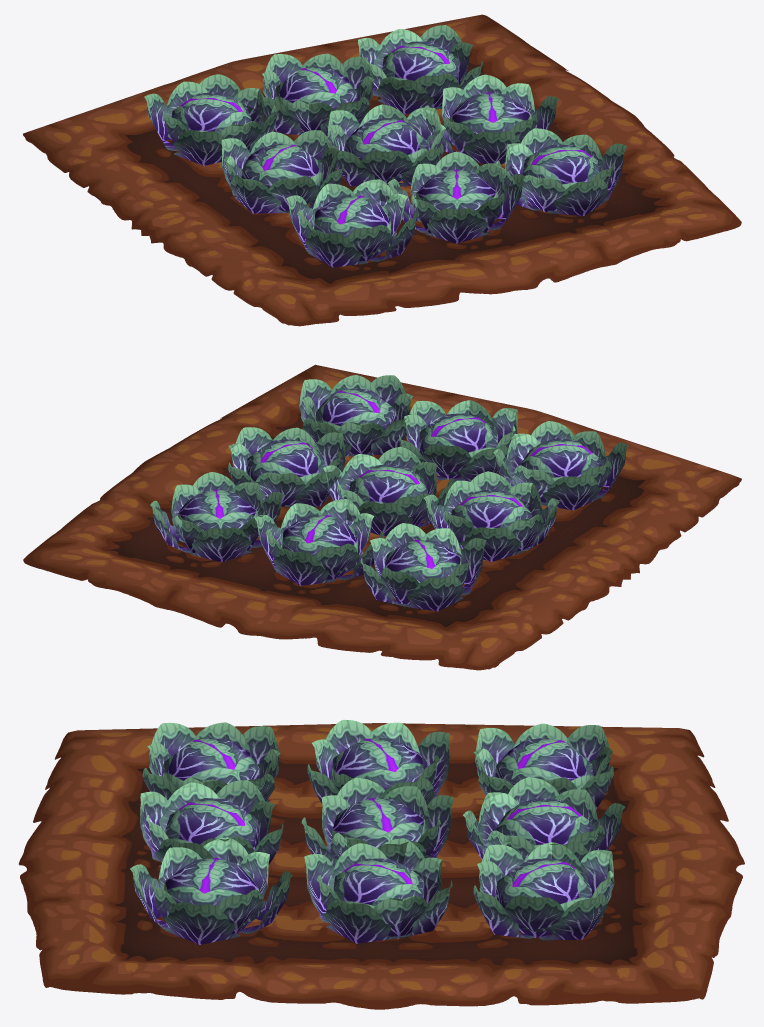
File: Cabbage_Field_Violet_Lv3.FBX
The picture shows the model from 3 angles, top to bottom: view 1: azimuth 30°, elevation 25°; view 2: azimuth 150°, elevation 25°; view 3: azimuth 270°, elevation 25°; orthographic projection. The views are drawn at different scales.
Parts seen in each view (by area): view 1: Cabbage_Field_Violet_Lv3; view 2: Cabbage_Field_Violet_Lv3; view 3: Cabbage_Field_Violet_Lv3.
Boxes of the visible parts, x1,y1,x2,y2 form: Cabbage_Field_Violet_Lv3: (23,14,741,326); Cabbage_Field_Violet_Lv3: (23,364,741,670); Cabbage_Field_Violet_Lv3: (18,719,744,1009).
Bounding box in the file's own units: 274 × 30.47 × 296.
